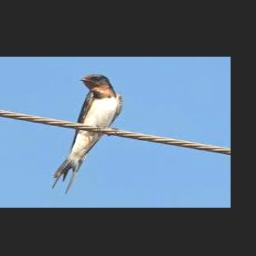Swallow: (52, 74, 122, 193)
